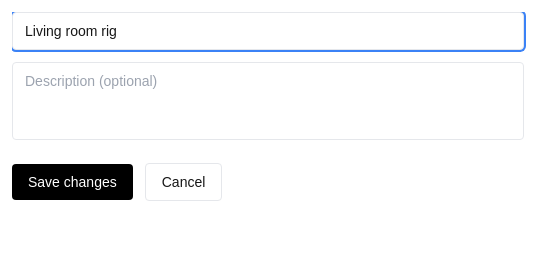
Scenario: EditSystemForm › Submission › shows server error message and keeps the form open on API failure
The image size is (543, 254).
What coordinates should you click on to do the following:
click the button "Save changes"
I would click on:
 (72, 182)
Its box is [12, 164, 133, 200].
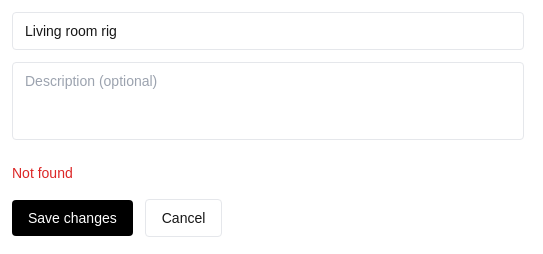
Check: the field with placeholder "System name" is shown, box [12, 12, 524, 50]
Check: the text "Not found" is shown, box [12, 165, 73, 181]
